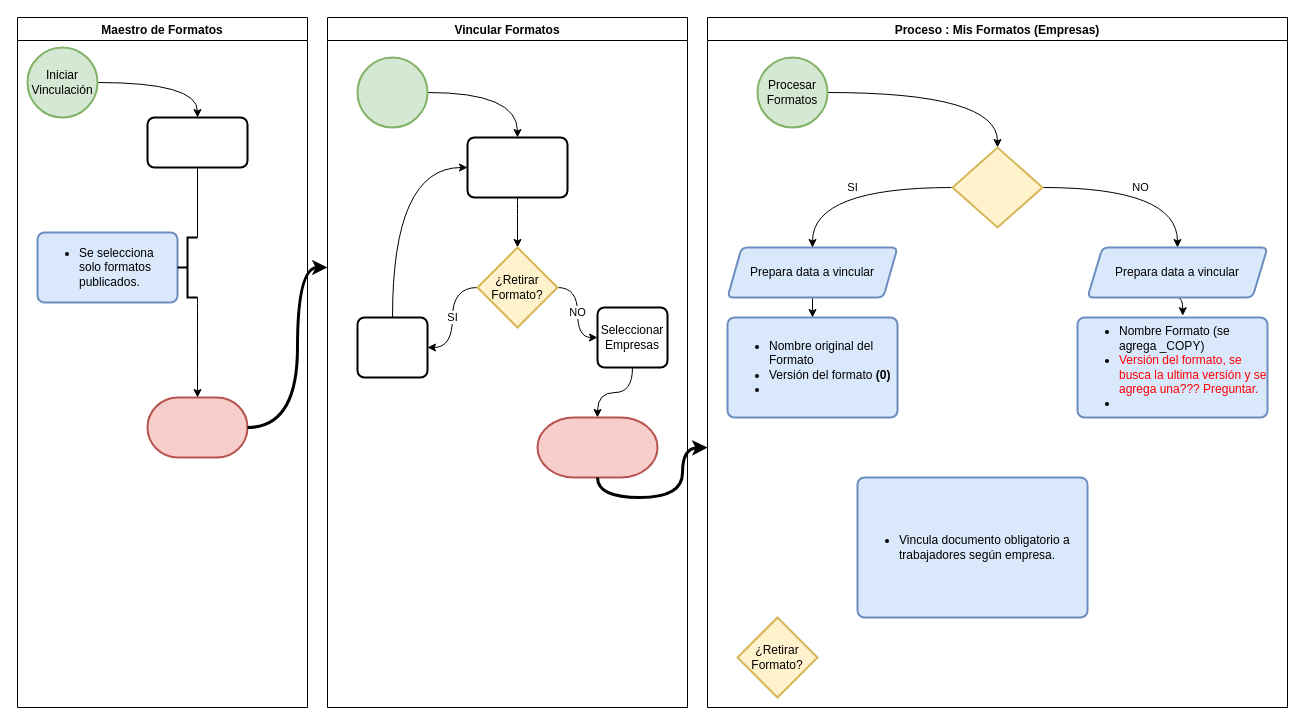
This 1305x725 diagram has some shape labels left out. The shapes that lost their labels are listed below. From the top down, each one's centre as x and y in pixels, then its label:
At pixel 392 92: "Recibir Formatos a Vincular".
At pixel 197 142: "Seleccionar Formatos".
At pixel 517 167: "Revisar Formatos Seleccionados".
At pixel 997 187: "¿Nuevo formato?".
At pixel 392 347: "Click derecho y retirar formato".
At pixel 197 427: "Enviar Formatos a vincular".
At pixel 597 447: "Vincular Formatos (Inicial | Adicional)".
